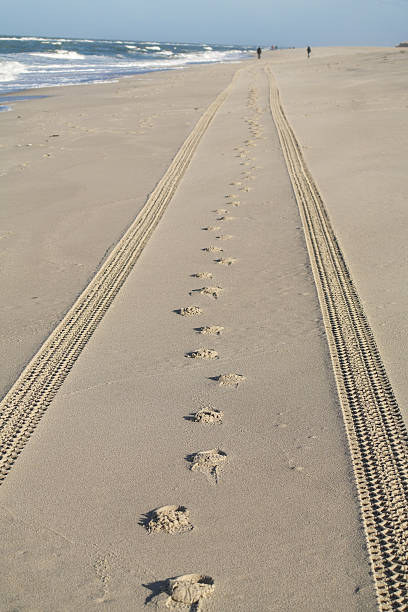human_foot_print: (144, 574, 214, 611), (141, 505, 192, 533), (186, 448, 226, 482), (184, 404, 223, 424), (193, 406, 223, 424), (215, 373, 245, 386), (190, 286, 222, 298), (185, 348, 218, 359), (196, 325, 223, 335), (175, 305, 201, 315), (215, 257, 236, 265), (191, 271, 212, 278), (202, 245, 222, 252), (217, 215, 235, 221), (216, 234, 233, 240), (213, 208, 228, 214), (202, 225, 219, 230)
vehicle_track: (0, 83, 231, 482), (266, 68, 407, 610)
